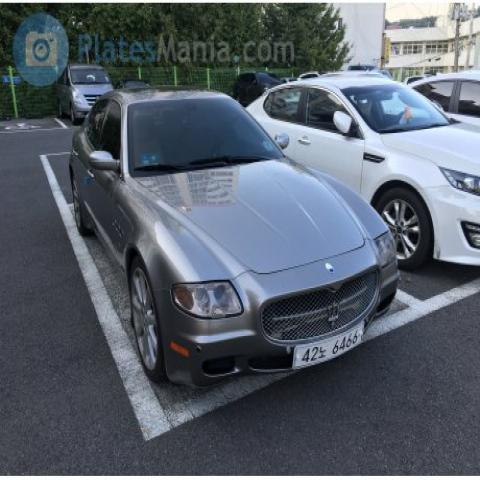LP: (290, 309, 373, 377)
